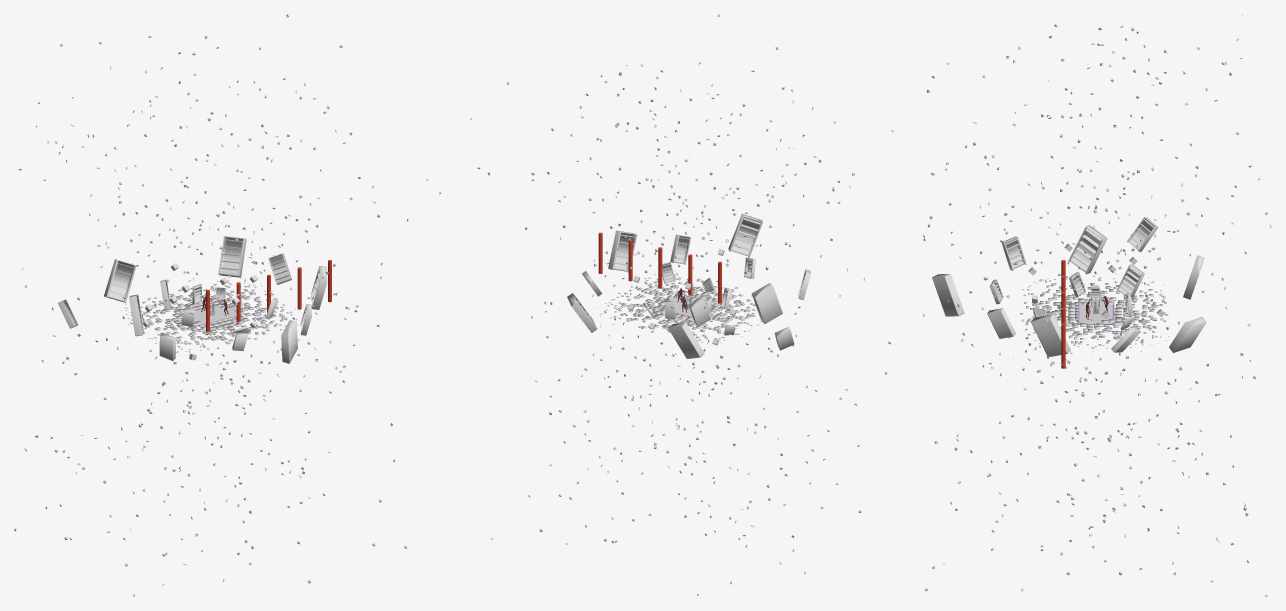
Rendered from PL_LBVR_SC04_v01.fbx.
3 views of the same model, side by side, from view 1: azimuth 30°, elevation 25°; view 2: azimuth 150°, elevation 25°; view 3: azimuth 270°, elevation 25° (orthographic). The views are drawn at different scales.
Visible parts, largest first — view 1: Cloner_1, Cube_1_194, Old_Dusty_Bookshelf.005, Old_Dusty_Bookshelf.010, DEIXAR EM TODOS OS LEVELS P/ REF, Old_Dusty_Bookshelf.017; view 2: Cloner_1, Cube_1_194, DEIXAR EM TODOS OS LEVELS P/ REF, Old_Dusty_Bookshelf.017, Old_Dusty_Bookshelf.004, Old_Dusty_Bookshelf.009, Old_Dusty_Bookshelf.010; view 3: Cloner_1, Cube_1_194, Old_Dusty_Bookshelf.004, Old_Dusty_Bookshelf.009, Old_Dusty_Bookshelf.017, Old_Dusty_Bookshelf.005, Old_Dusty_Bookshelf.011, 04.001, Old_Dusty_Bookshelf.007, Old_Dusty_Bookshelf.003, Old_Dusty_Bookshelf.002, DEIXAR EM TODOS OS LEVELS P/ REF.
Part boxes in pixels (bbox=[...]): Cloner_1: bbox=[14, 14, 440, 596]; Cube_1_194: bbox=[119, 275, 298, 354]; Old_Dusty_Bookshelf.005: bbox=[218, 236, 246, 277]; Old_Dusty_Bookshelf.010: bbox=[104, 259, 136, 302]; DEIXAR EM TODOS OS LEVELS P/ REF: bbox=[206, 260, 331, 331]; Old_Dusty_Bookshelf.017: bbox=[281, 320, 297, 363]; Cloner_1: bbox=[470, 14, 893, 595]; Cube_1_194: bbox=[593, 273, 761, 345]; DEIXAR EM TODOS OS LEVELS P/ REF: bbox=[598, 232, 721, 303]; Old_Dusty_Bookshelf.017: bbox=[728, 214, 762, 257]; Old_Dusty_Bookshelf.004: bbox=[751, 283, 782, 324]; Old_Dusty_Bookshelf.009: bbox=[608, 230, 637, 272]; Old_Dusty_Bookshelf.010: bbox=[668, 322, 704, 358]; Cloner_1: bbox=[922, 14, 1271, 596]; Cube_1_194: bbox=[1020, 273, 1169, 351]; Old_Dusty_Bookshelf.004: bbox=[1068, 225, 1107, 274]; Old_Dusty_Bookshelf.009: bbox=[1031, 314, 1070, 356]; Old_Dusty_Bookshelf.017: bbox=[932, 274, 964, 316]; Old_Dusty_Bookshelf.005: bbox=[1169, 317, 1206, 353]; Old_Dusty_Bookshelf.011: bbox=[1127, 217, 1158, 251]; 04.001: bbox=[1079, 301, 1112, 323]; Old_Dusty_Bookshelf.007: bbox=[987, 308, 1015, 338]; Old_Dusty_Bookshelf.003: bbox=[1002, 236, 1026, 270]; Old_Dusty_Bookshelf.002: bbox=[1117, 264, 1144, 298]; DEIXAR EM TODOS OS LEVELS P/ REF: bbox=[1061, 260, 1065, 368].
Size of the model in its own units: 3680 by 5154 by 3248.
